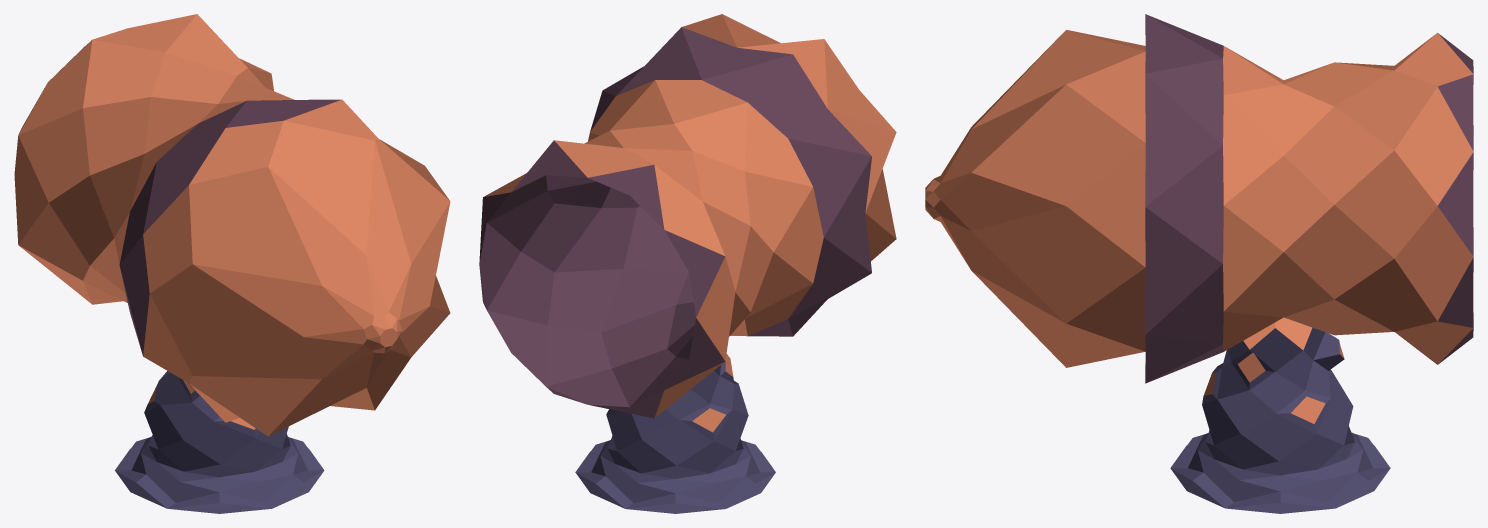
File: ENV_Cannon_Placeholder2.fbx
The picture shows the model from 3 angles, left to right: view 1: azimuth 30°, elevation 25°; view 2: azimuth 150°, elevation 25°; view 3: azimuth 270°, elevation 25°; orthographic projection. The views are drawn at different scales.
Parts seen in each view (by area): view 1: Cannon_base.002; view 2: Cannon_base.002; view 3: Cannon_base.002.
Boxes of the visible parts, x1,y1,x2,y2 form: Cannon_base.002: (14,14,450,513); Cannon_base.002: (479,14,896,513); Cannon_base.002: (925,14,1473,513).
Size of the model in its own units: 304 by 189 by 259.
